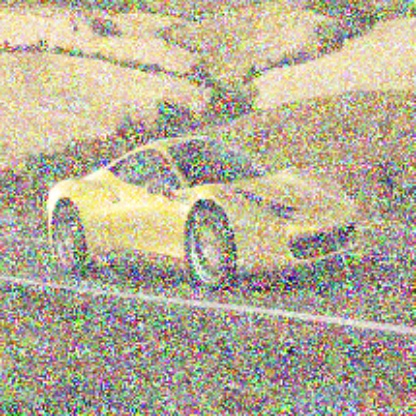Vehicle: (46, 133, 362, 297)
